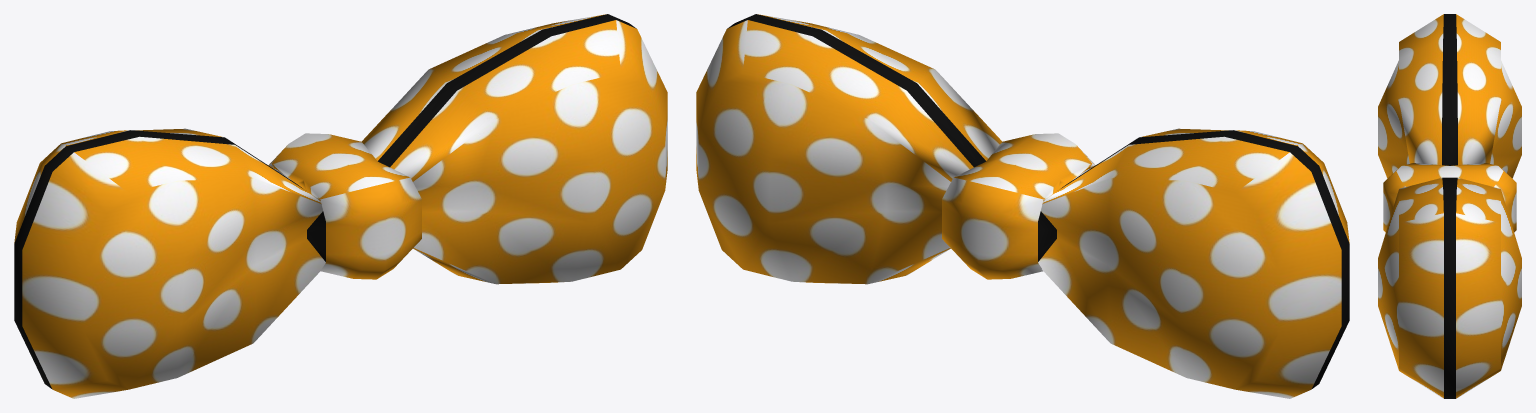
Rendered from RIBBON_01.FBX.
3 renders of one model, left to right at view 1: azimuth 30°, elevation 25°; view 2: azimuth 150°, elevation 25°; view 3: azimuth 270°, elevation 25°, orthographic. The views are drawn at different scales.
Visible parts, largest first — view 1: Box001; view 2: Box001; view 3: Box001.
Part boxes in pixels (x1,y1,x2,y2): Box001: [14, 14, 667, 398]; Box001: [696, 14, 1349, 398]; Box001: [1378, 14, 1521, 398].
Size of the model in its own units: 465 by 170 by 119.
Materials: 2 (1 with a texture image).
